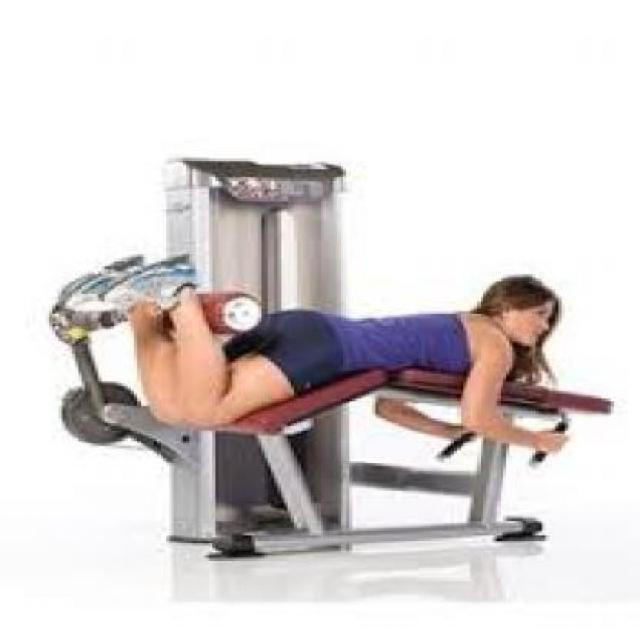reg curl machine: (43, 148, 617, 612)
